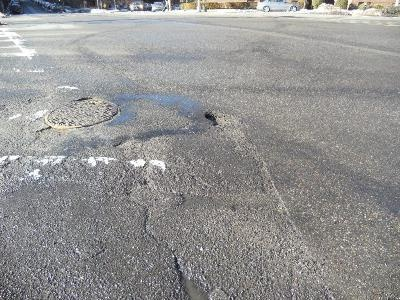pothole: (172, 258, 216, 300), (203, 108, 237, 127)
